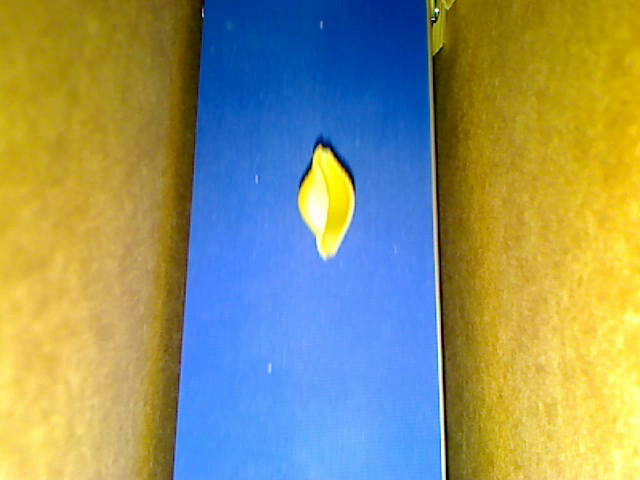penne: (426, 1, 449, 59), (440, 1, 456, 14)
shell: (294, 140, 359, 261)
